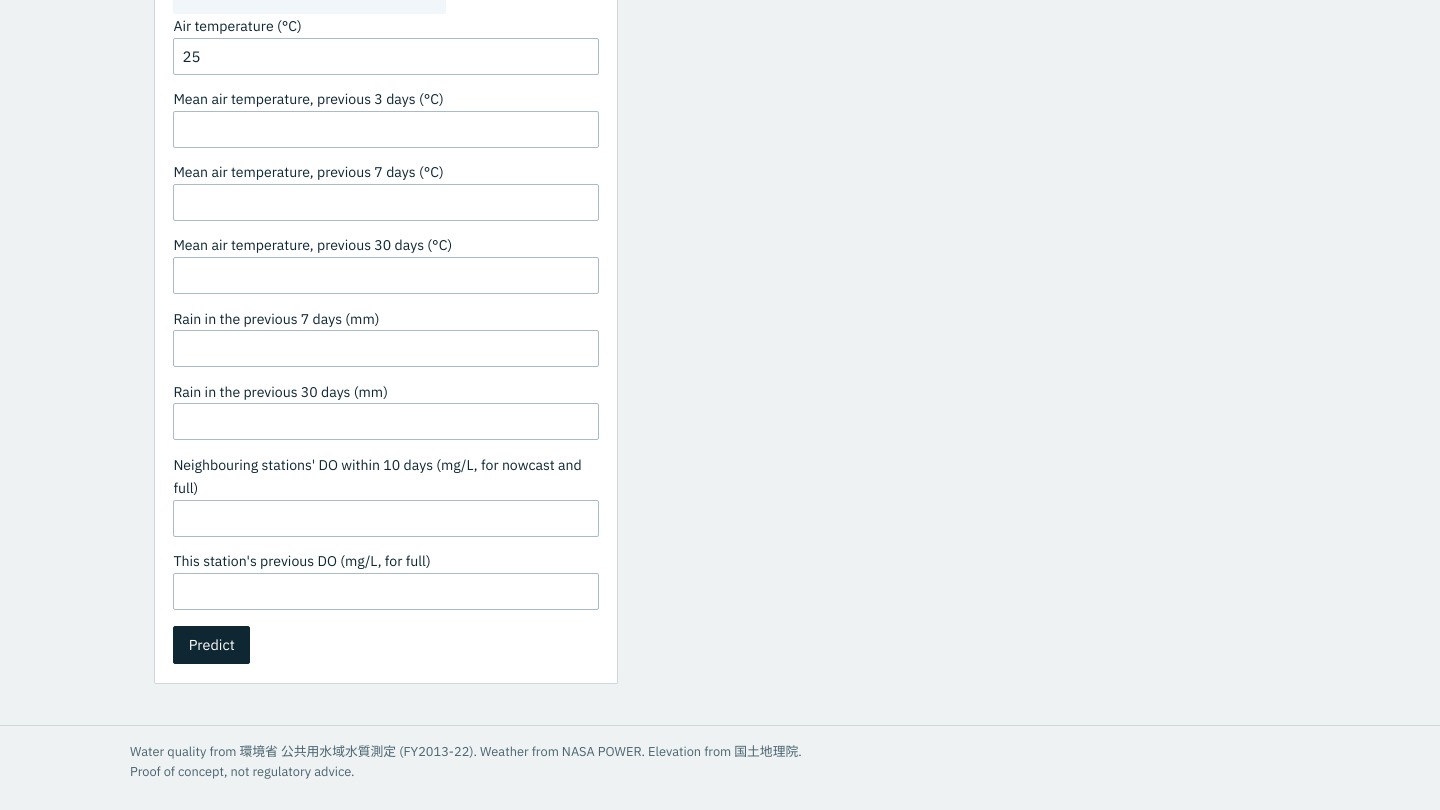
predict page › sends the form and shows the interval and the missing inputs
(page scrolled)
Click the button "Predict" at point(212, 645), box x1=173 y1=626 x2=250 y2=664
(page scrolled)
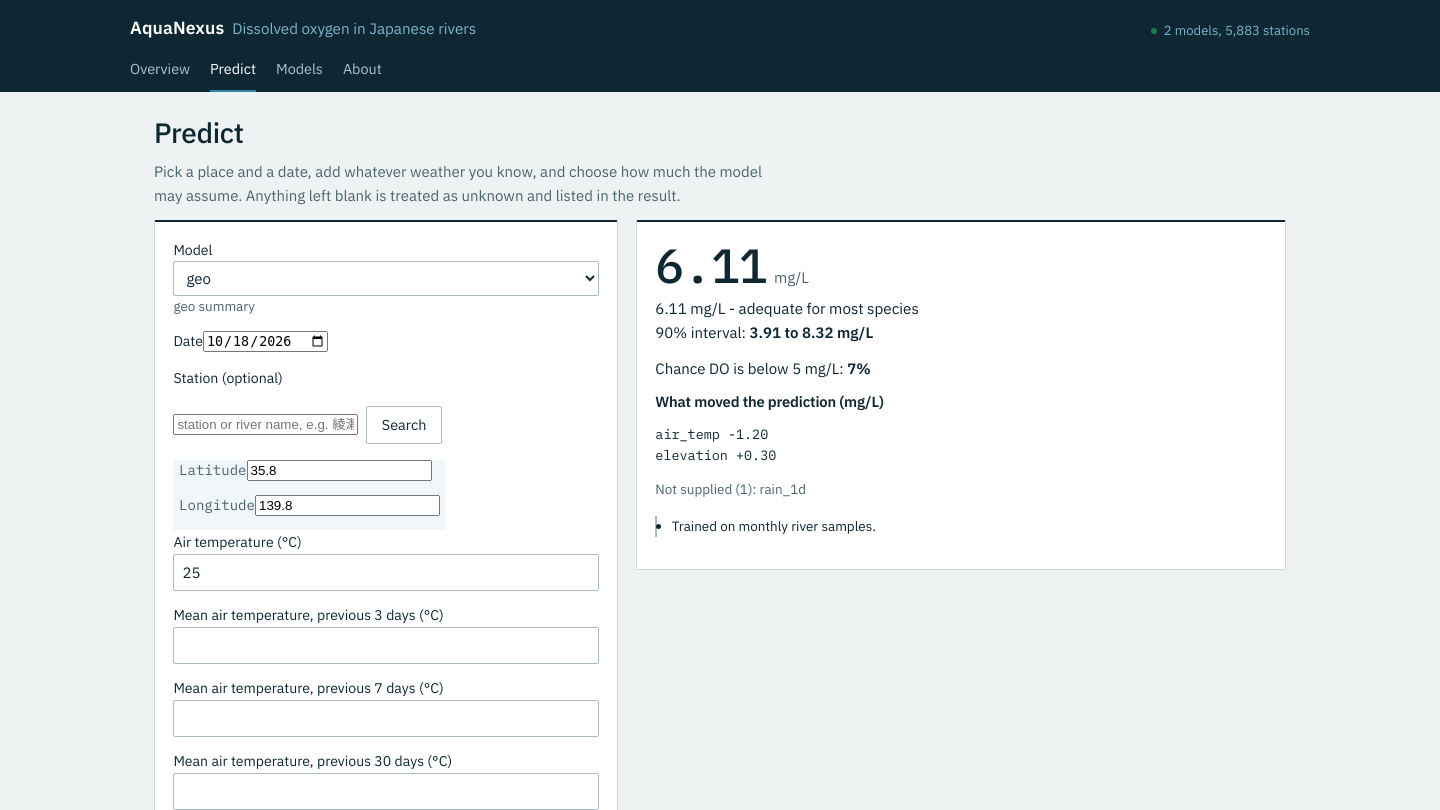
Expected: the text "6.11" is shown, x1=655 y1=241 x2=767 y2=289
Expected: the text "3.91 to 8.32 mg/L" is shown, x1=749 y1=323 x2=873 y2=342
Expected: the text "Not supplied (1): rain_1d" is shown, x1=655 y1=480 x2=806 y2=498
